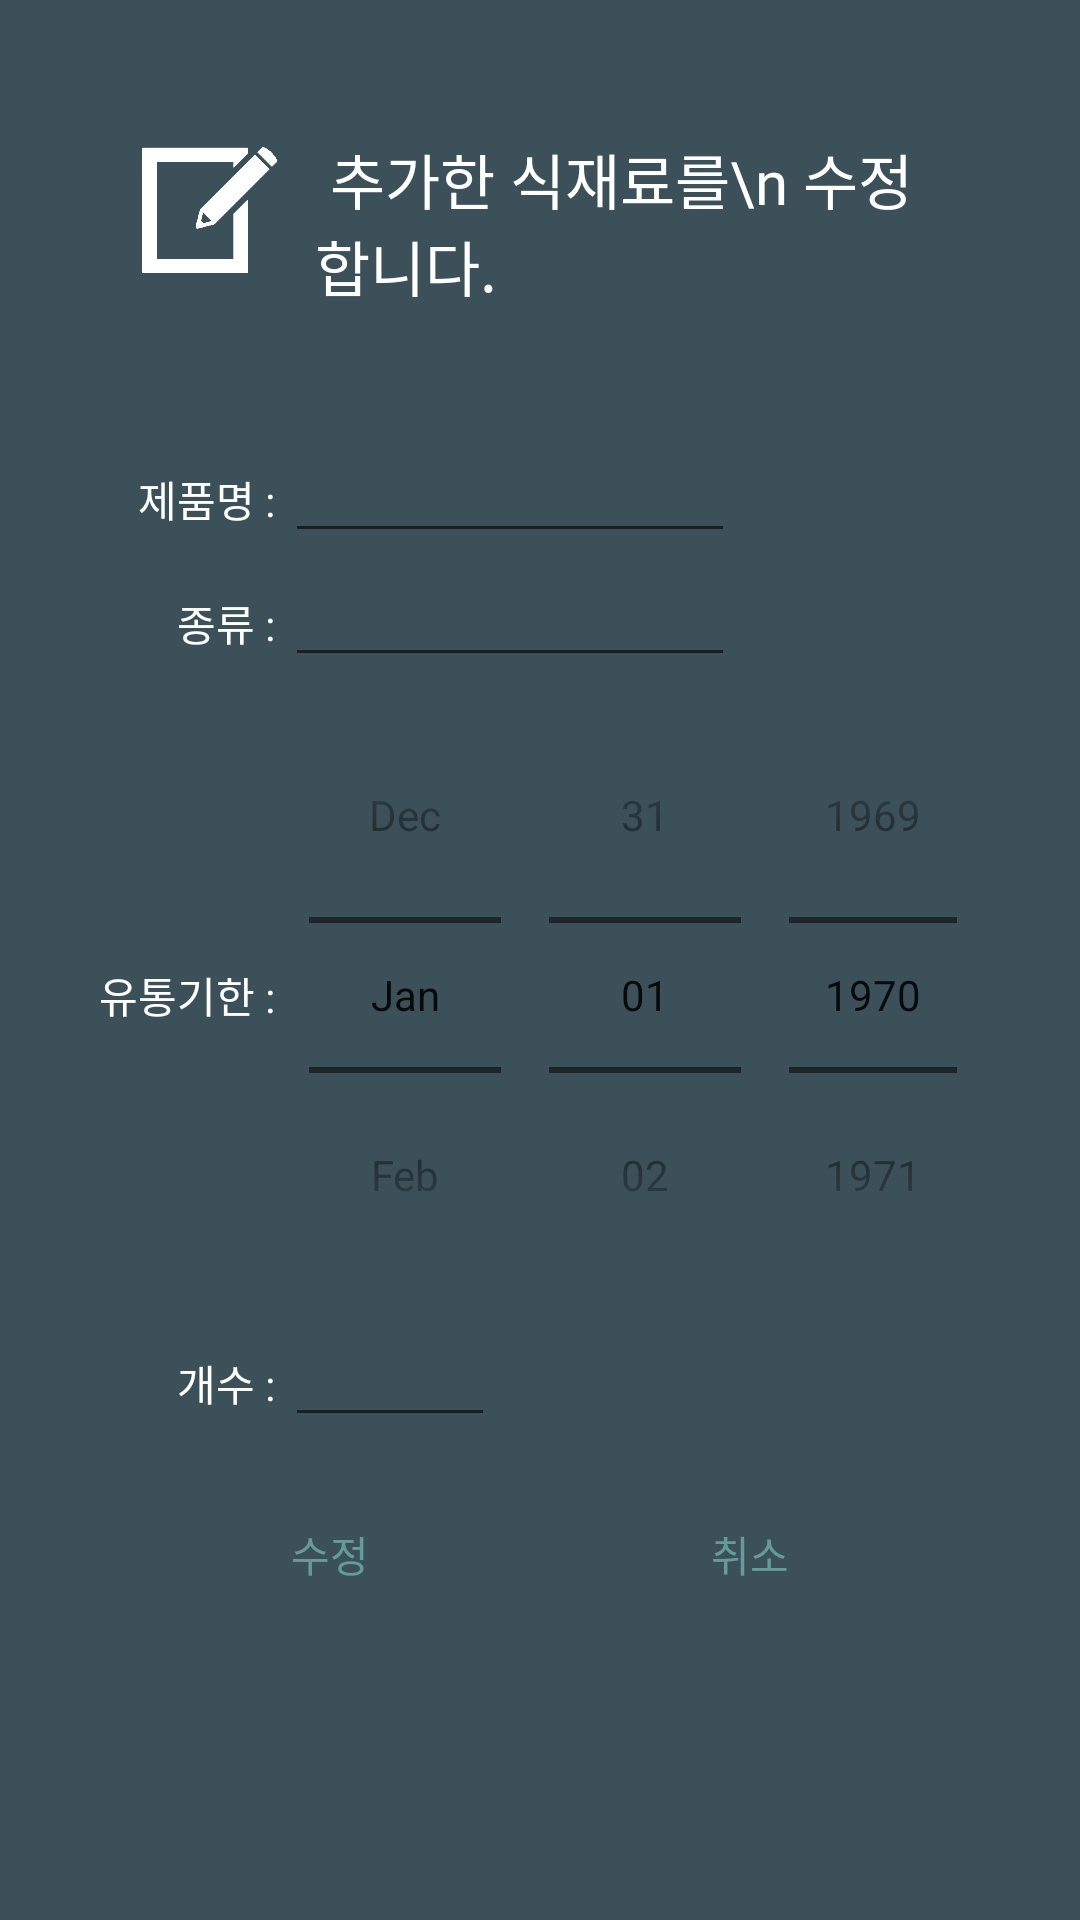

Named icons in this screenshot (1080×1920) and their bounding boxes, [x1, y1, x2, y2]:
edit pen: [142, 147, 277, 273]
